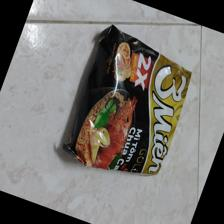3mien: (63, 24, 193, 177)
